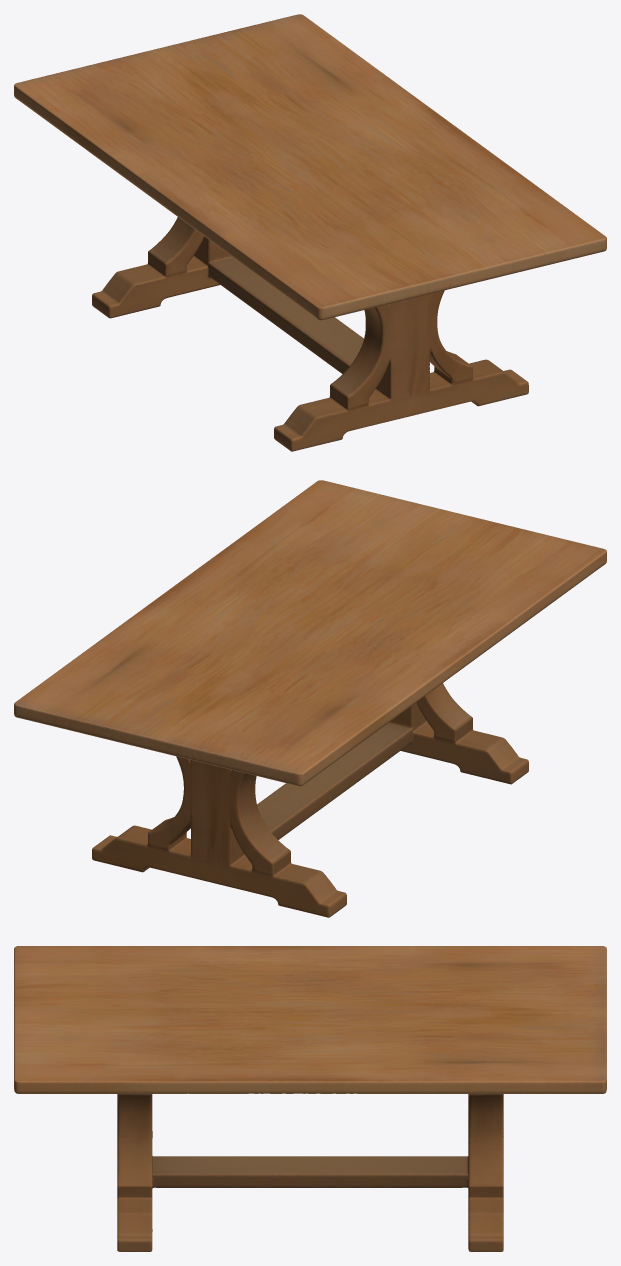
Rendered from detailed_realistic_model_grandoaktable_14.glb.
3 renders of one model, top to bottom at view 1: azimuth 30°, elevation 25°; view 2: azimuth 150°, elevation 25°; view 3: azimuth 270°, elevation 25°, orthographic. The views are drawn at different scales.
Visible parts, largest first — view 1: tripo_node_e796ee03-1feb-47bc-b102-72c5093e15f2; view 2: tripo_node_e796ee03-1feb-47bc-b102-72c5093e15f2; view 3: tripo_node_e796ee03-1feb-47bc-b102-72c5093e15f2.
Part boxes in pixels (x1,y1,x2,y2): tripo_node_e796ee03-1feb-47bc-b102-72c5093e15f2: [14, 14, 606, 451]; tripo_node_e796ee03-1feb-47bc-b102-72c5093e15f2: [14, 480, 606, 917]; tripo_node_e796ee03-1feb-47bc-b102-72c5093e15f2: [14, 946, 606, 1251].
Size of the model in its own units: 0.5439 by 0.3405 by 1.
1 material, 1 textured.
